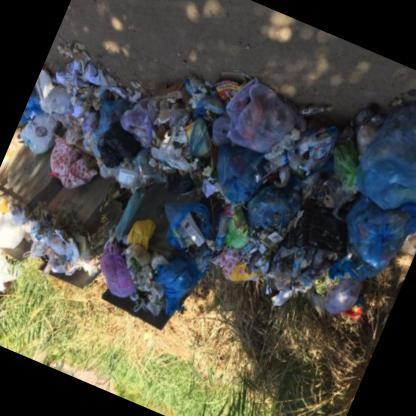Garbage: (212, 41, 415, 340), (115, 39, 348, 266), (10, 37, 200, 203), (96, 169, 234, 319), (22, 217, 104, 284), (0, 189, 43, 250)
